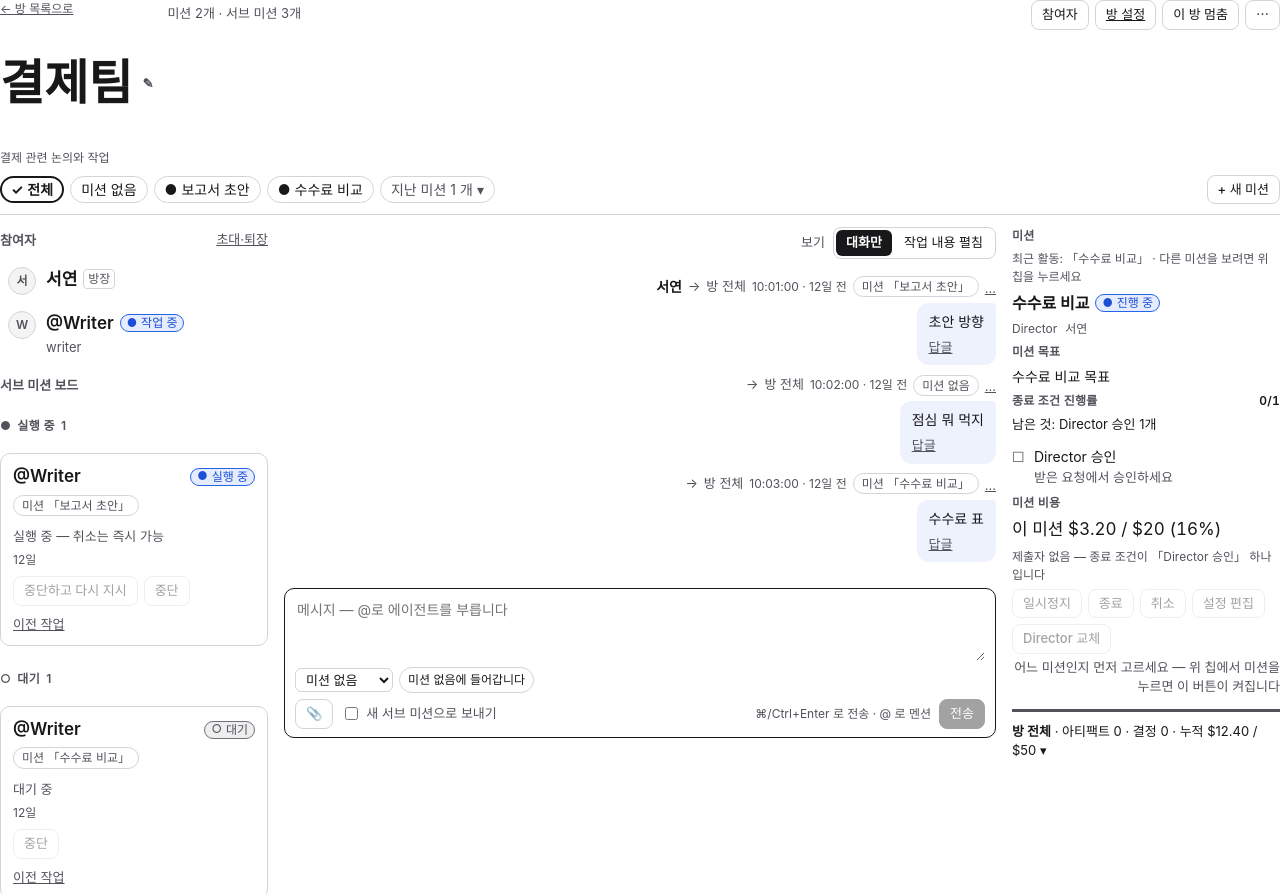
S7 — 상단 · 배너 · 좁은 화면 › 「이 방 멈춤」 — 확인 다이얼로그가 턴·미션 수를 칸으로 적고 blockRoom 을 부른다
Expected: the element with test id "room-title" is shown, [0, 53, 157, 112]
Expected: the 1st element with test id "message-card" is shown, [656, 276, 996, 365]
Click the button with test id "room-block" at {"x": 1201, "y": 15}, box [1162, 0, 1239, 30]
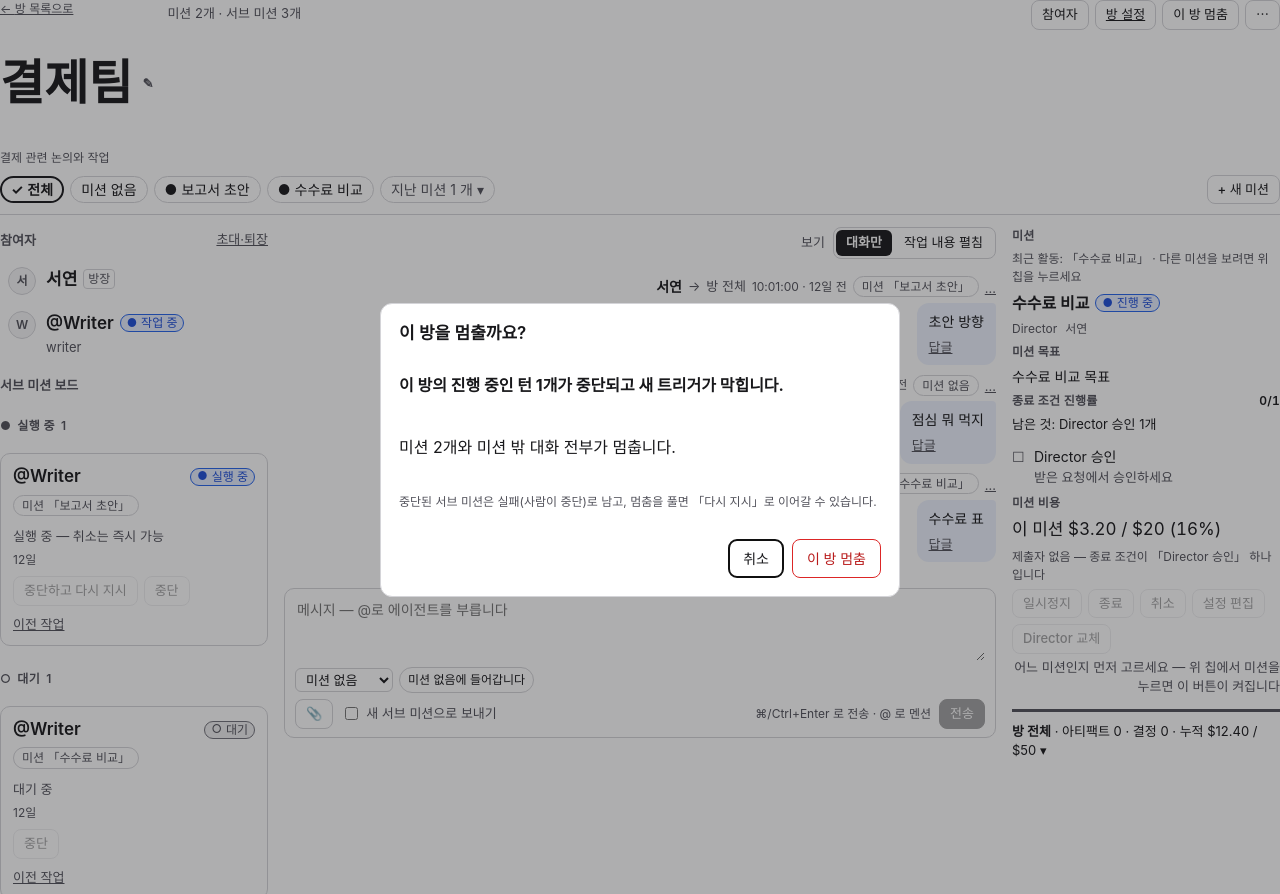
Expected: the element with test id "block-dialog-turns" reads "이 방의 진행 중인 턴 1개가 중단되고 새 트리거가 막힙니다.", [399, 375, 784, 395]
Expected: the element with test id "block-dialog-works" reads "미션 2개와 미션 밖 대화 전부가 멈춥니다.", [399, 437, 676, 457]
Click the button with test id "block-dialog-confirm" at {"x": 836, "y": 558}, box [792, 539, 881, 578]
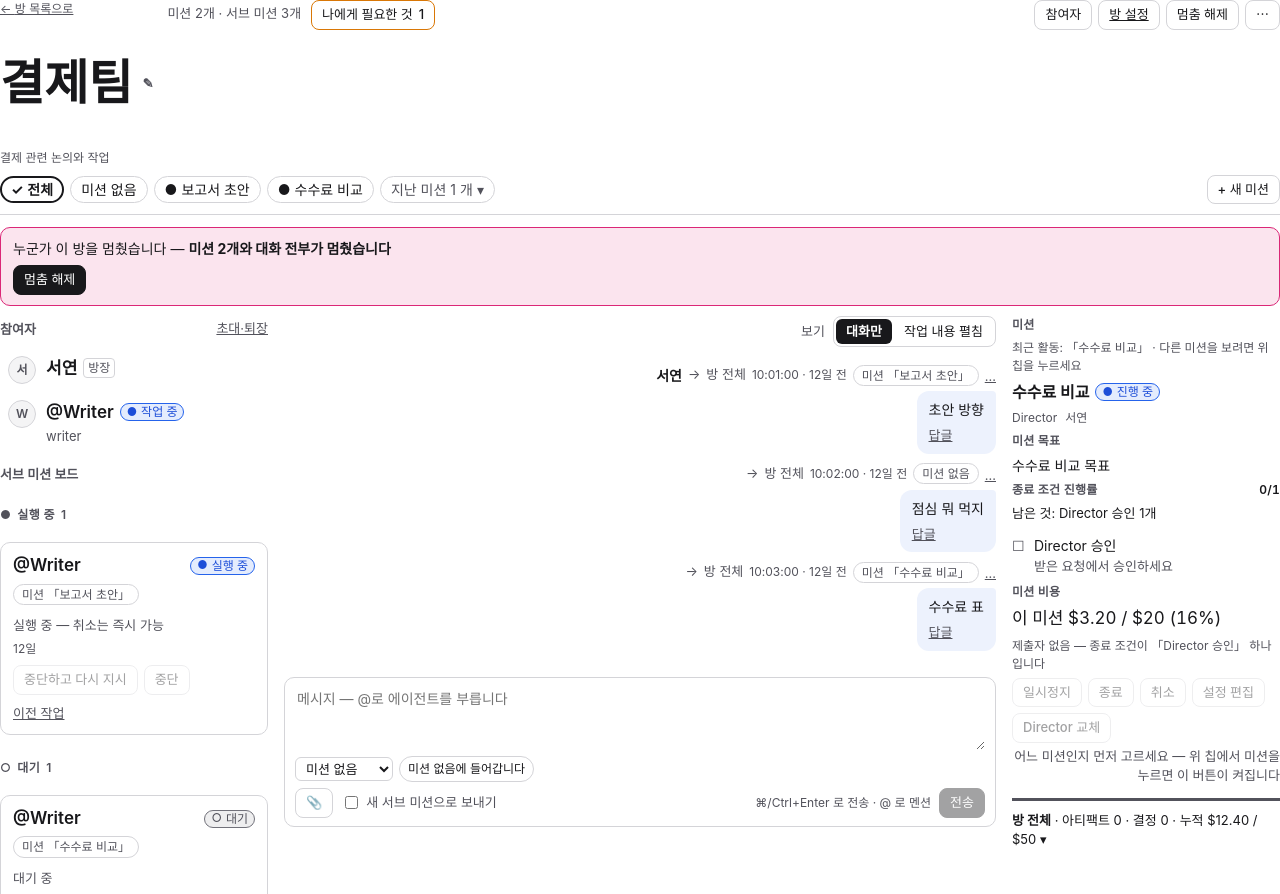
Expected: the message "누군가 이 방을 멈췄습니다 — 미션 2개와 대화 전부가 멈췄습니다 멈춤 해제" is shown, [0, 227, 1279, 306]
